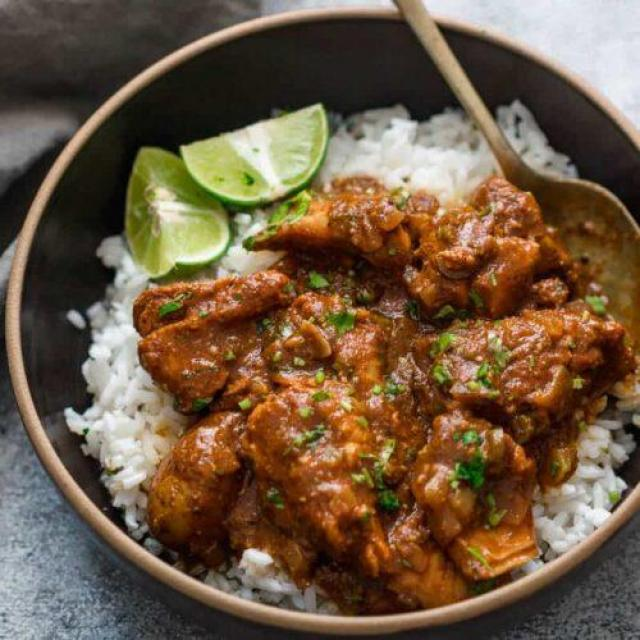chicken: (192, 213, 638, 600)
rice: (66, 241, 174, 508), (306, 101, 548, 182)
